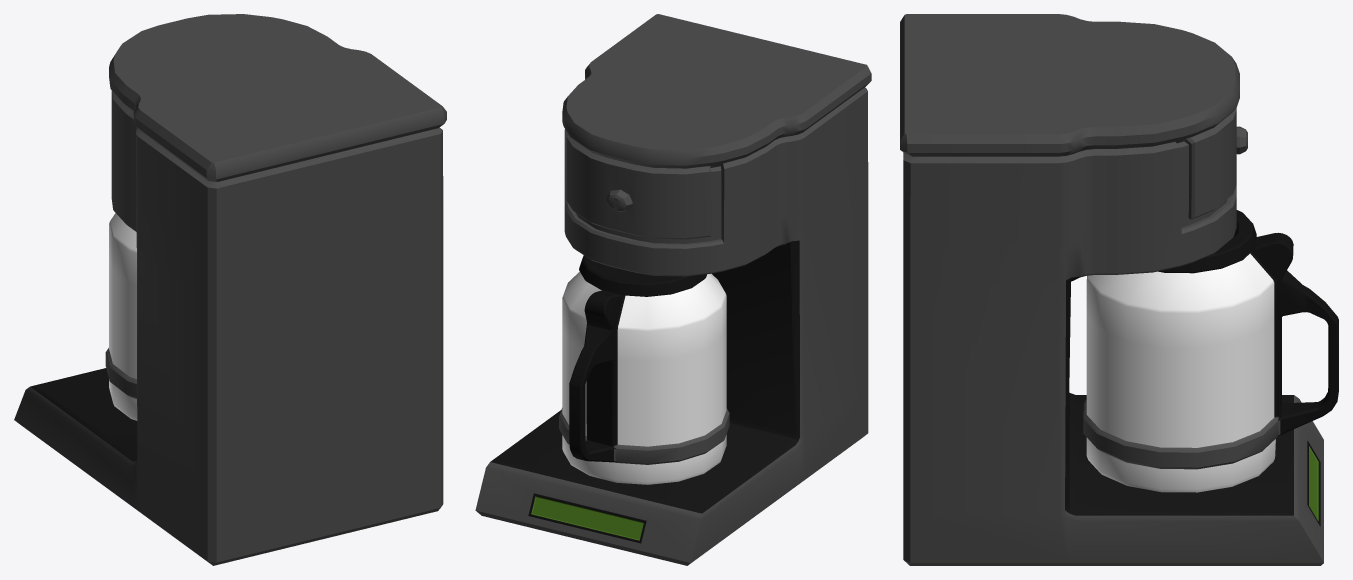
File: coffee_maker.glb
The picture shows the model from 3 angles, left to right: view 1: azimuth 30°, elevation 25°; view 2: azimuth 150°, elevation 25°; view 3: azimuth 270°, elevation 25°; orthographic projection. The views are drawn at different scales.
Parts seen in each view (by area): view 1: Cube.009, Cube.022; view 2: Cube.009, Cube.022; view 3: Cube.009, Cube.022.
Boxes of the visible parts, x1,y1,x2,y2 form: Cube.009: (14, 14, 446, 565); Cube.022: (105, 213, 137, 420); Cube.009: (475, 14, 871, 565); Cube.022: (559, 255, 729, 484); Cube.009: (900, 14, 1323, 565); Cube.022: (1083, 210, 1338, 492).
Bounding box in the file's own units: 0.2807 × 0.4528 × 0.4158.
2 materials, 1 textured.
